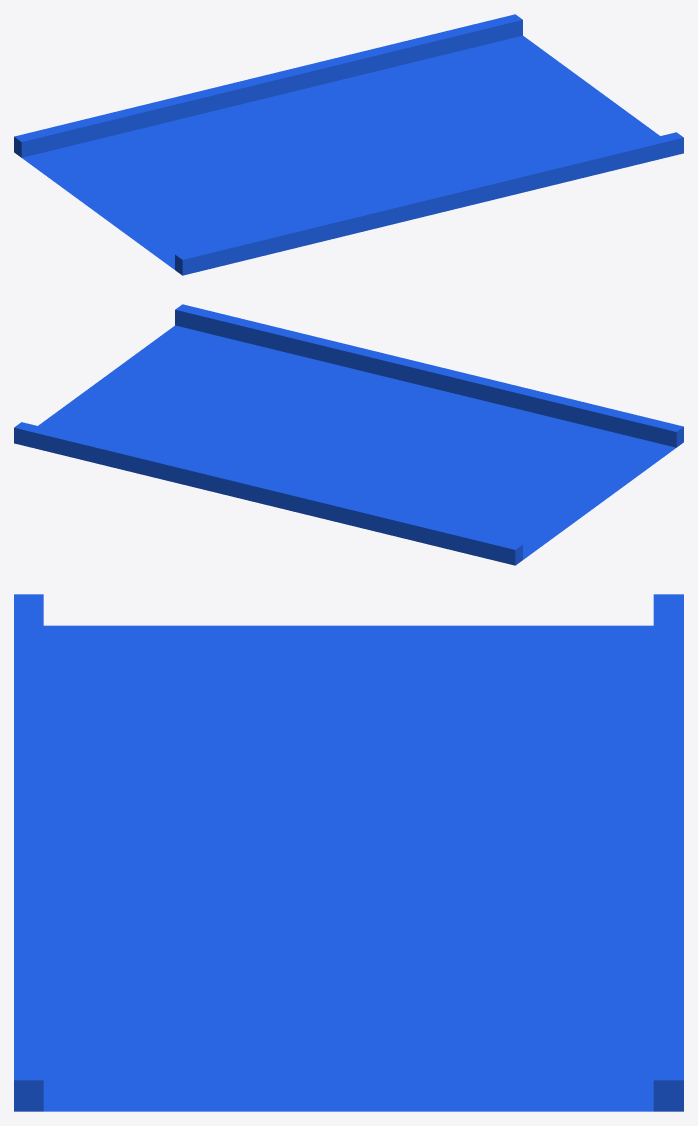
The picture shows the model from 3 angles, top to bottom: view 1: azimuth 30°, elevation 25°; view 2: azimuth 150°, elevation 25°; view 3: azimuth 270°, elevation 25°; orthographic projection. The views are drawn at different scales.
Visible parts, largest first — view 1: Plane002; view 2: Plane002; view 3: Plane002.
Part boxes in pixels (bbox=[...]): Plane002: bbox=[14, 14, 683, 275]; Plane002: bbox=[14, 304, 683, 565]; Plane002: bbox=[14, 594, 683, 1111].
Bounding box in the file's own units: 394 × 11.81 × 229.
